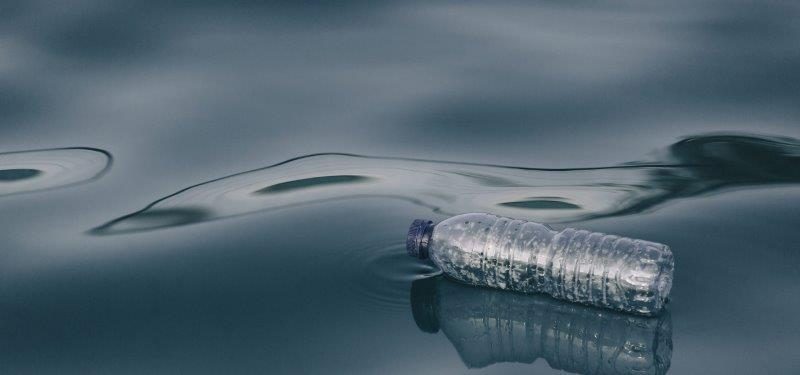plastic: (405, 213, 676, 314)
